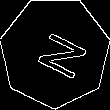N_NW: (24, 23, 86, 81)
